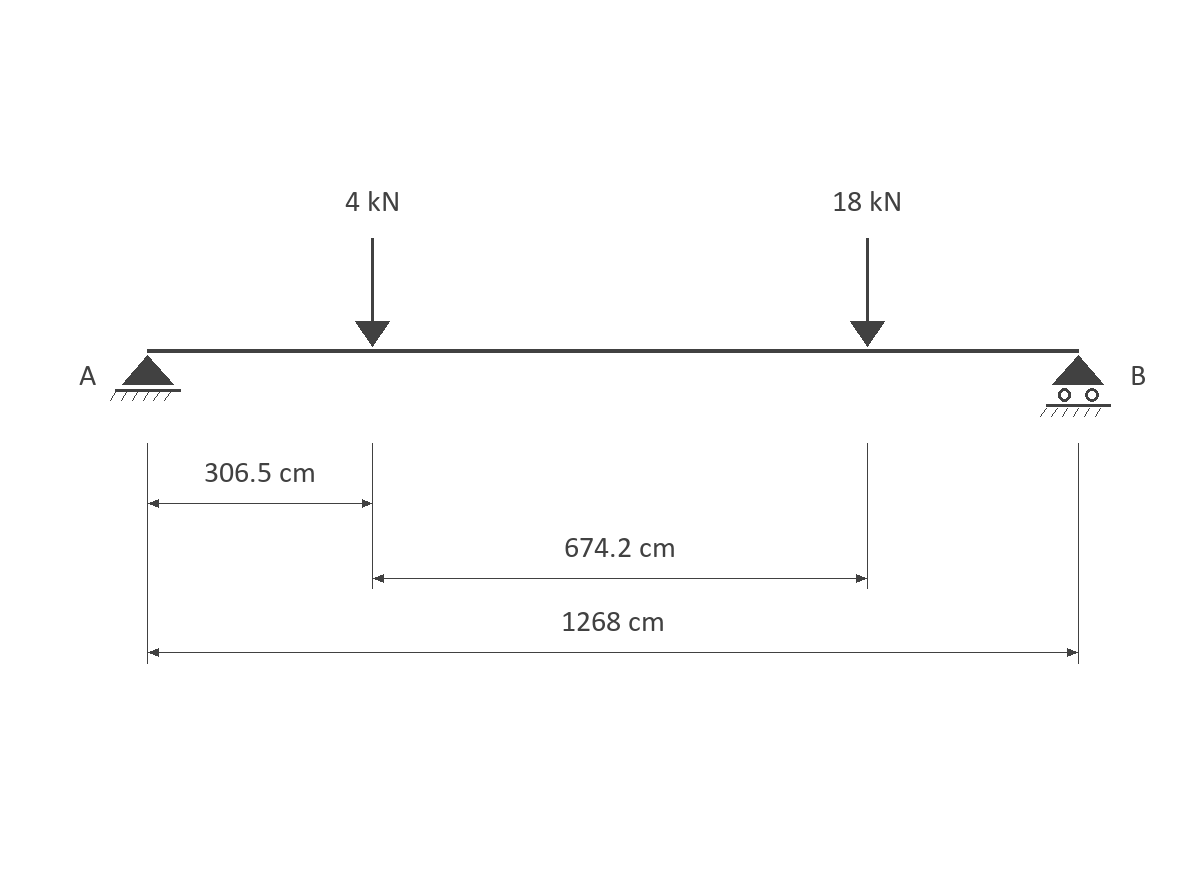pin_support: (110, 355, 181, 401)
point_load: (355, 238, 390, 347), (850, 238, 885, 347)
roller_support: (1040, 355, 1111, 417)
